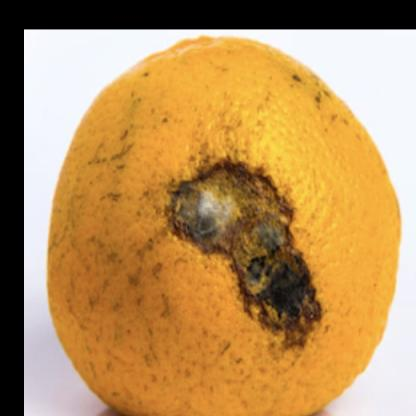rotten: (46, 35, 405, 416)
